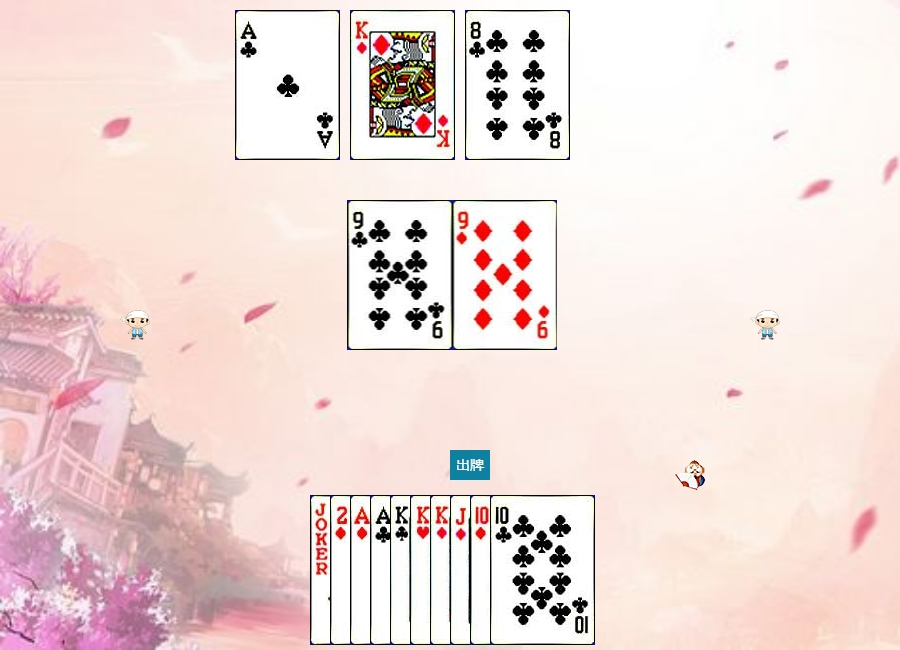10~1: (470, 495, 575, 645)
10~2: (490, 495, 595, 645)
11~1: (450, 495, 555, 645)
13~1: (350, 10, 455, 160), (430, 495, 535, 645)
13~2: (390, 495, 495, 645)
13~3: (410, 495, 515, 645)
14~1: (350, 495, 455, 645)
14~2: (235, 10, 340, 160), (370, 495, 475, 645)
15~1: (330, 495, 435, 645)
18~4: (310, 495, 415, 645)
8~2: (465, 10, 570, 160)
9~1: (453, 200, 558, 350)
9~2: (348, 200, 453, 350)
